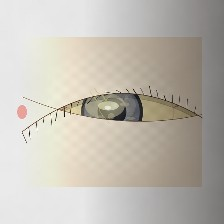corneal_ulcer: (73, 80, 137, 131)
